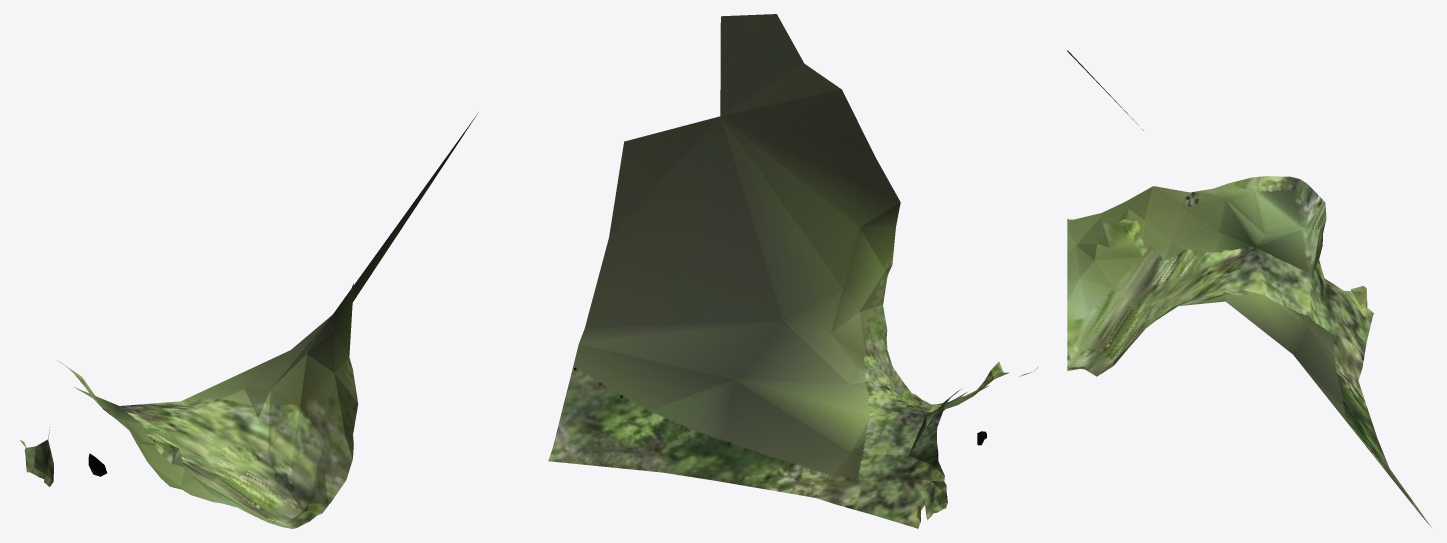
3 views of the same model, side by side, from view 1: azimuth 30°, elevation 25°; view 2: azimuth 150°, elevation 25°; view 3: azimuth 270°, elevation 25° (orthographic). The views are drawn at different scales.
Size of the model in its own units: 26.11 by 26.11 by 18.72.
Materials: 3 (3 with a texture image).
